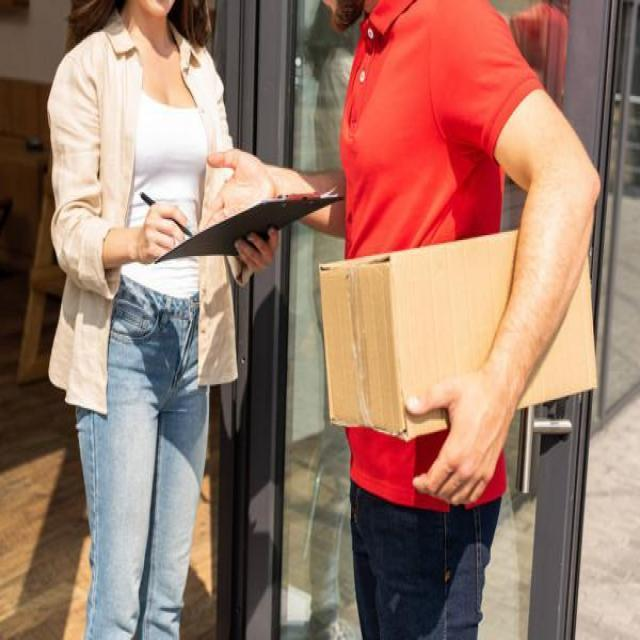box: (320, 226, 596, 450)
